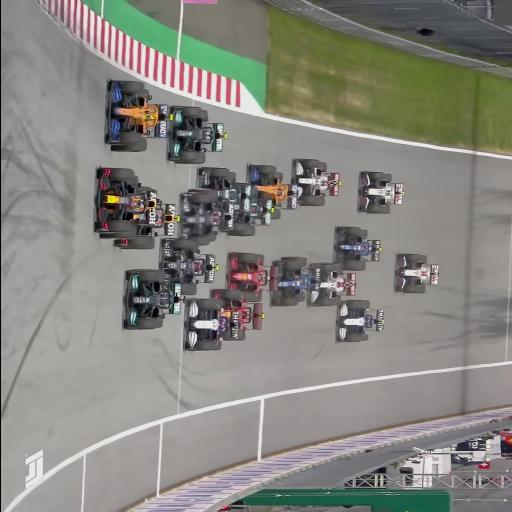f1_car: (106, 80, 173, 152), (94, 167, 157, 239), (114, 186, 179, 250), (198, 167, 253, 236), (123, 269, 183, 330), (167, 106, 226, 164), (160, 239, 219, 295), (180, 189, 232, 246), (211, 289, 264, 341), (184, 299, 235, 351), (247, 165, 296, 219), (227, 253, 276, 302), (271, 257, 319, 307), (227, 187, 274, 237), (292, 159, 340, 206), (308, 263, 356, 307), (335, 227, 381, 271), (336, 300, 384, 342), (358, 172, 403, 214), (395, 254, 439, 294), (100, 234, 109, 238), (229, 205, 230, 206), (116, 234, 119, 234)
